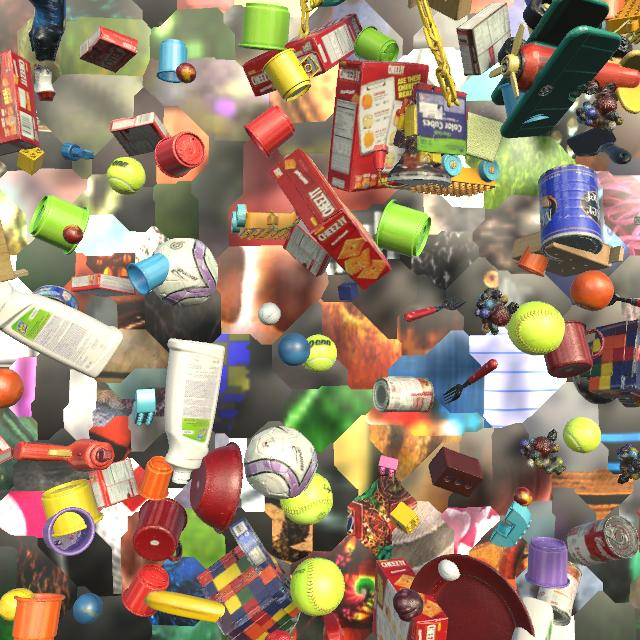ycb_002_master_chef_can: (538, 164, 603, 262), (524, 0, 602, 29)
ycb_003_cracker_box: (269, 148, 391, 290), (328, 59, 429, 192), (243, 13, 363, 97), (372, 558, 448, 640), (0, 50, 40, 156)
ycb_005_tomato_soup_can: (566, 515, 639, 566), (537, 561, 582, 626), (372, 378, 434, 413)
ycb_007_tuna_fish_can: (229, 517, 270, 569), (32, 285, 79, 310)
ycb_008_pudding_box: (456, 2, 511, 76)
ycb_009_gelatin_box: (283, 219, 332, 277), (79, 26, 138, 73), (110, 112, 171, 157), (88, 458, 140, 510), (71, 273, 136, 297), (0, 435, 14, 464)
ycb_011_banana: (143, 591, 225, 623)
ycb_012_strawberry: (265, 630, 294, 640)
ycb_014_lemon: (0, 588, 35, 621)
ycb_017_orange: (570, 270, 614, 311), (0, 368, 24, 409)
ycb_018_plum: (393, 589, 424, 622)
